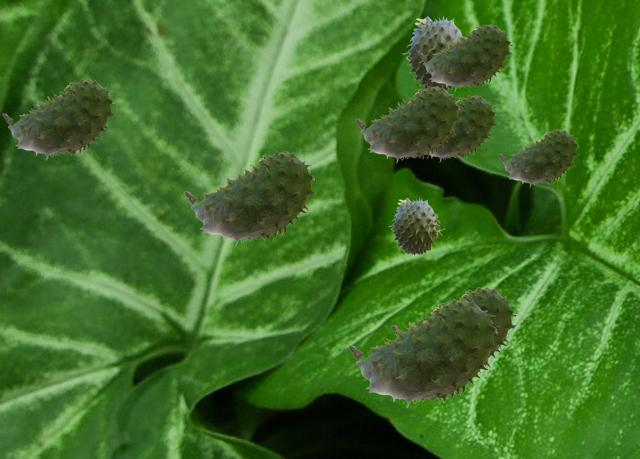guyabano: (348, 299, 498, 407), (184, 151, 315, 245), (391, 287, 515, 366), (2, 79, 114, 159), (355, 86, 460, 162), (418, 24, 511, 90), (402, 15, 464, 90), (498, 129, 578, 186), (430, 95, 496, 161), (388, 197, 444, 254)
